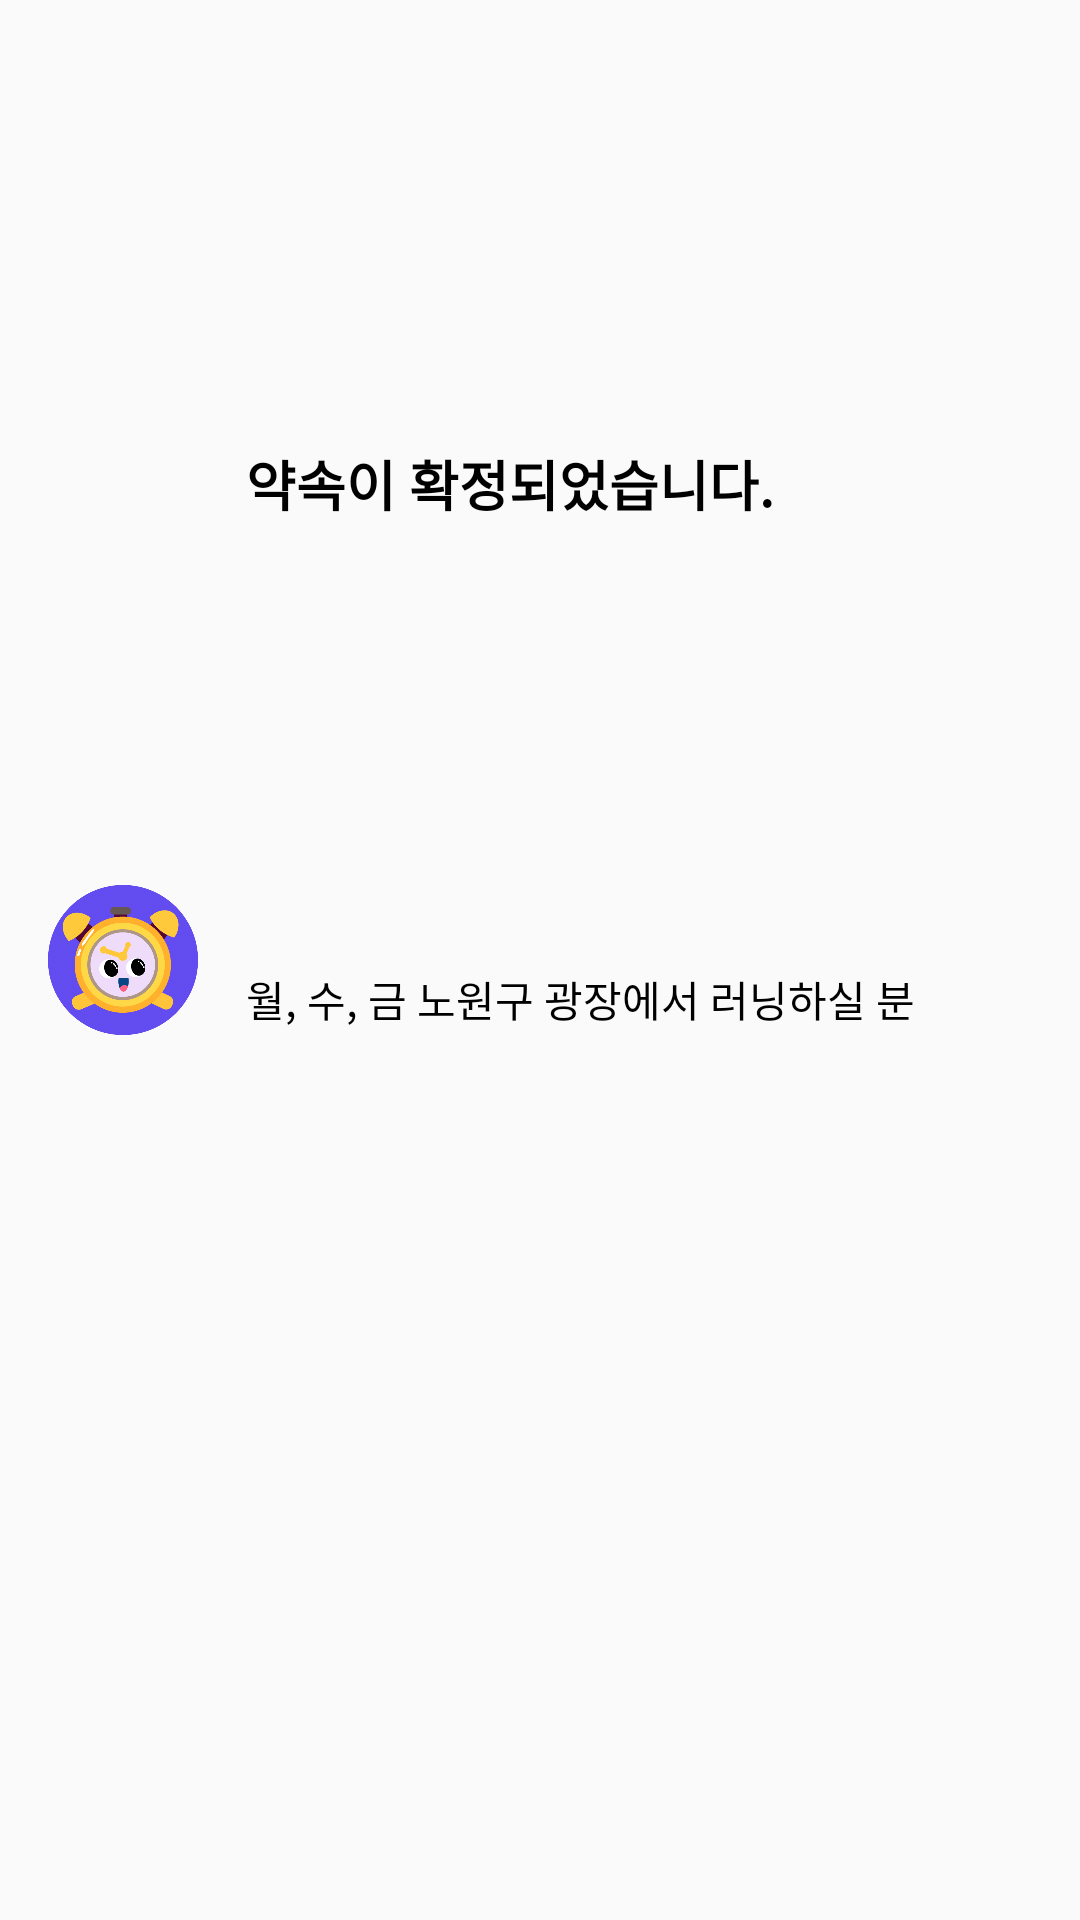

Icon bounding boxes for this 1080*1920 phone screenshot, format (x1, y1, x2, y2):
notification: (48, 885, 198, 1035)
